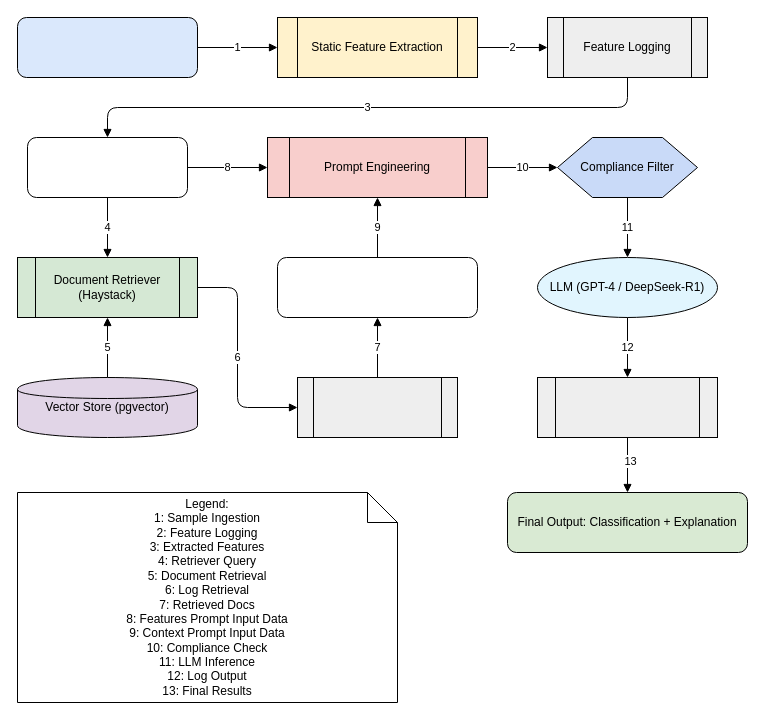
This 765x720 diagram has some shape labels left out. The centre of each missing label's shape, as x and y in pixels:
API + Output Logging: (x=627, y=407)
Extracted Features: (x=107, y=167)
Malware Sample (PE File): (x=107, y=47)
Retrieval Logging: (x=377, y=407)
Threat Docs (MalwareBazaar / VT): (x=377, y=287)
